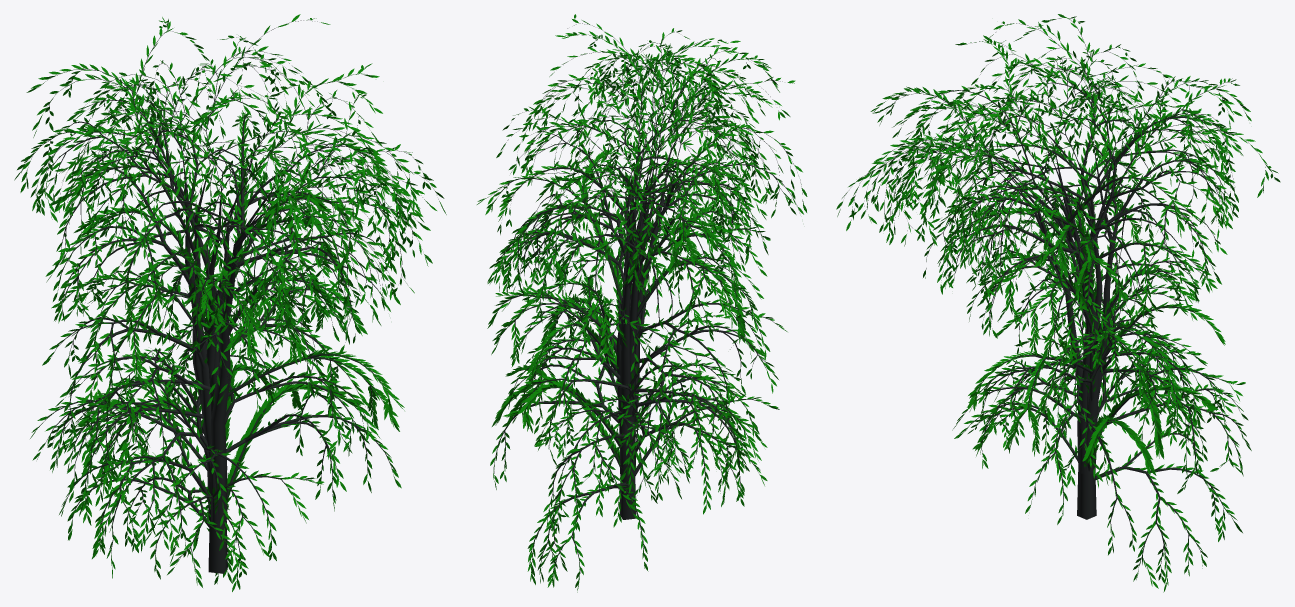
File: tree-v4.glb
The picture shows the model from 3 angles, left to right: view 1: azimuth 30°, elevation 25°; view 2: azimuth 150°, elevation 25°; view 3: azimuth 270°, elevation 25°; orthographic projection. The views are drawn at different scales.
Parts seen in each view (by area): view 1: leaves, tree; view 2: leaves, tree; view 3: leaves, tree.
Boxes of the visible parts, x1,y1,x2,y2 form: leaves: (14,14,446,591); tree: (25,20,438,578); leaves: (477,14,807,592); tree: (492,23,802,579); leaves: (836,14,1280,592); tree: (851,18,1270,576).
Size of the model in its own units: 12.77 by 22.13 by 16.69.
2 materials, 2 textured.
